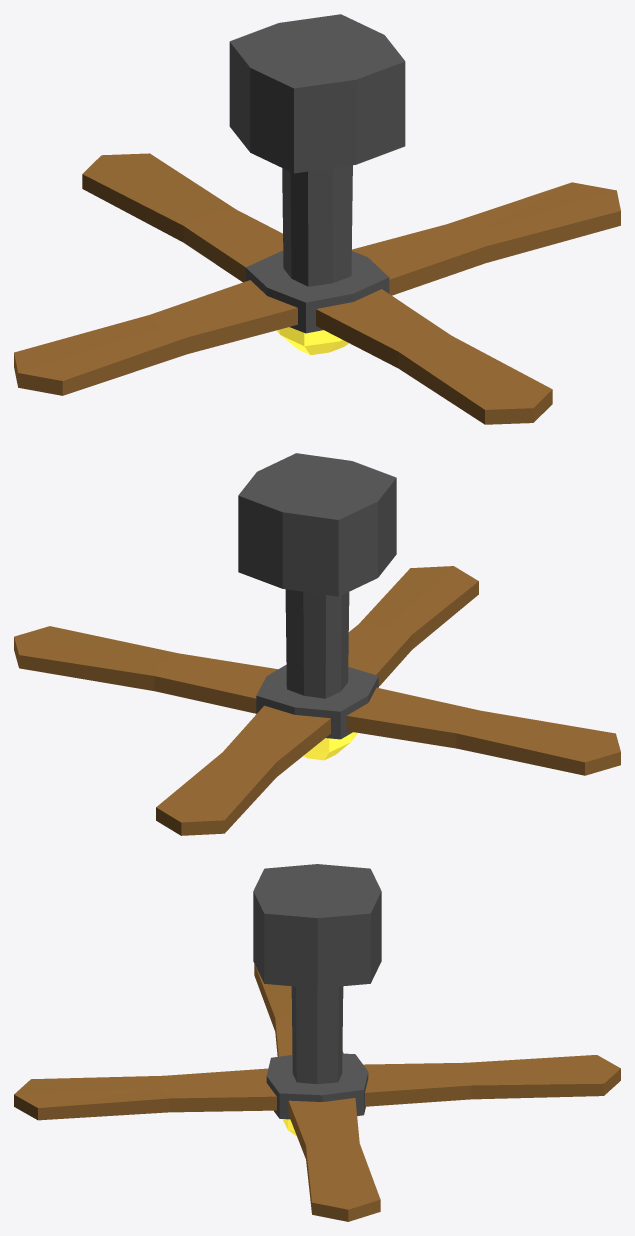
The model's file is Ceiling_fan_Gray.fbx.
3 renders of one model, top to bottom at view 1: azimuth 30°, elevation 25°; view 2: azimuth 150°, elevation 25°; view 3: azimuth 270°, elevation 25°, orthographic. The views are drawn at different scales.
Visible parts, largest first — view 1: Ceiling_fan_blades_Gray, Ceiling_fan_base_Gray; view 2: Ceiling_fan_blades_Gray, Ceiling_fan_base_Gray; view 3: Ceiling_fan_blades_Gray, Ceiling_fan_base_Gray.
Boxes of the visible parts, x1,y1,x2,y2 form: Ceiling_fan_blades_Gray: [14, 153, 620, 424]; Ceiling_fan_base_Gray: [229, 14, 405, 355]; Ceiling_fan_blades_Gray: [14, 566, 620, 835]; Ceiling_fan_base_Gray: [238, 453, 396, 760]; Ceiling_fan_blades_Gray: [14, 964, 620, 1221]; Ceiling_fan_base_Gray: [253, 864, 381, 1136].
Size of the model in its own units: 1430 by 635 by 1430.
